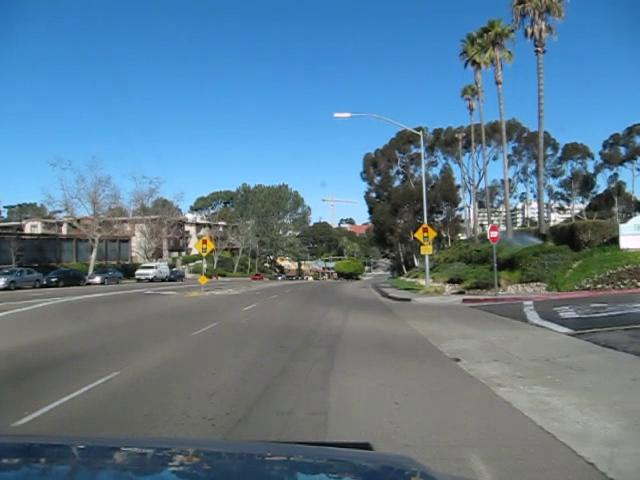signalAhead: (412, 222, 437, 246), (194, 235, 213, 257)
stop: (488, 224, 500, 242)
